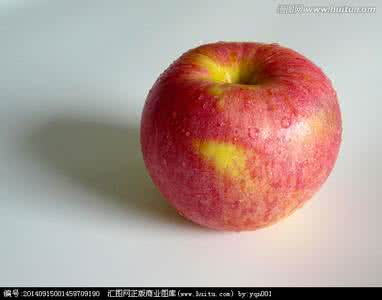apple: (127, 30, 347, 228)
